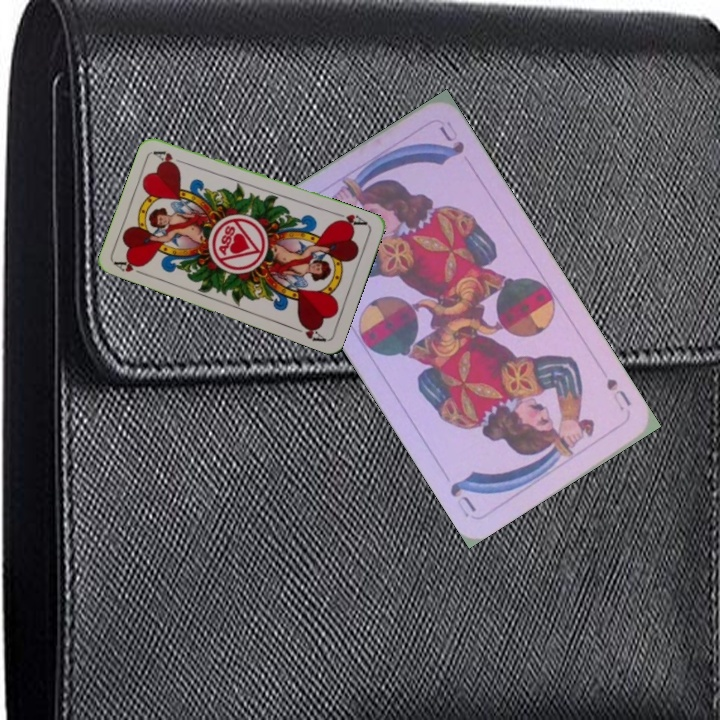HA: (112, 255, 151, 279), (331, 208, 370, 230)
SU: (602, 374, 634, 413)
